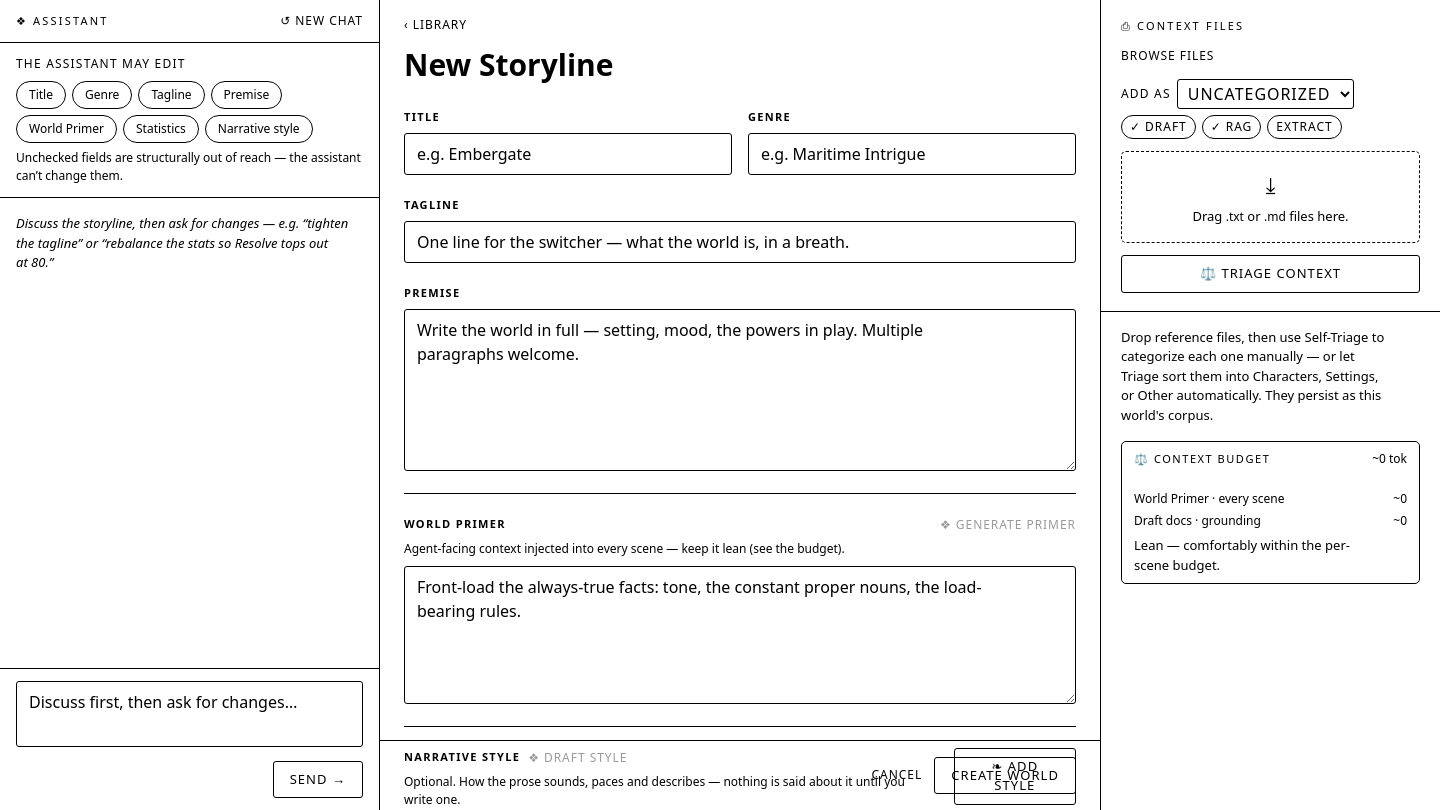
Test case: StorylineCreatorView › drafts via the Assistant and fills the form on approve
Type "draft a title" into the text box named "message the assistant". click: (190, 714)
box: [16,680,363,746]
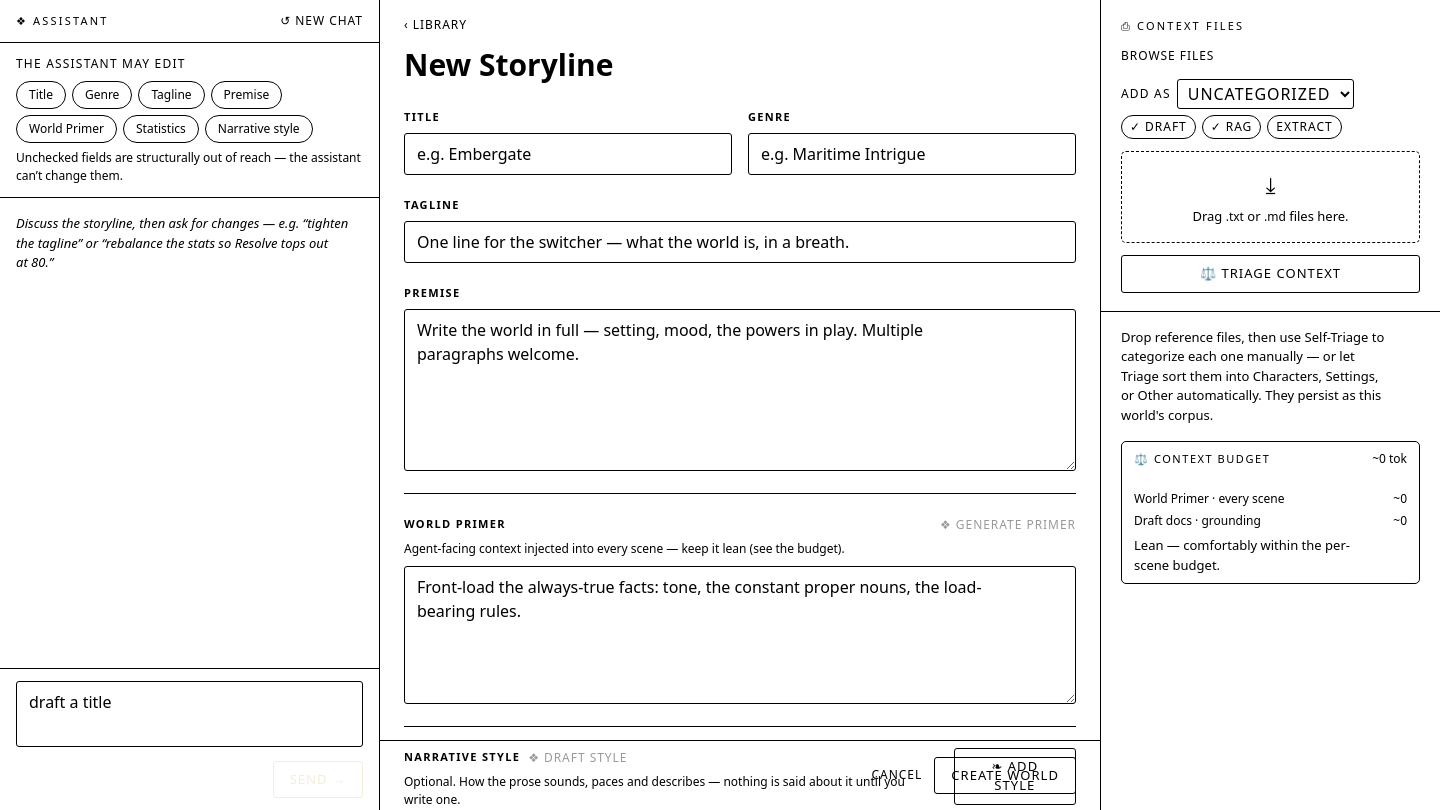
Click the button "Send →". click: click(318, 779)
box: [273,760,363,798]
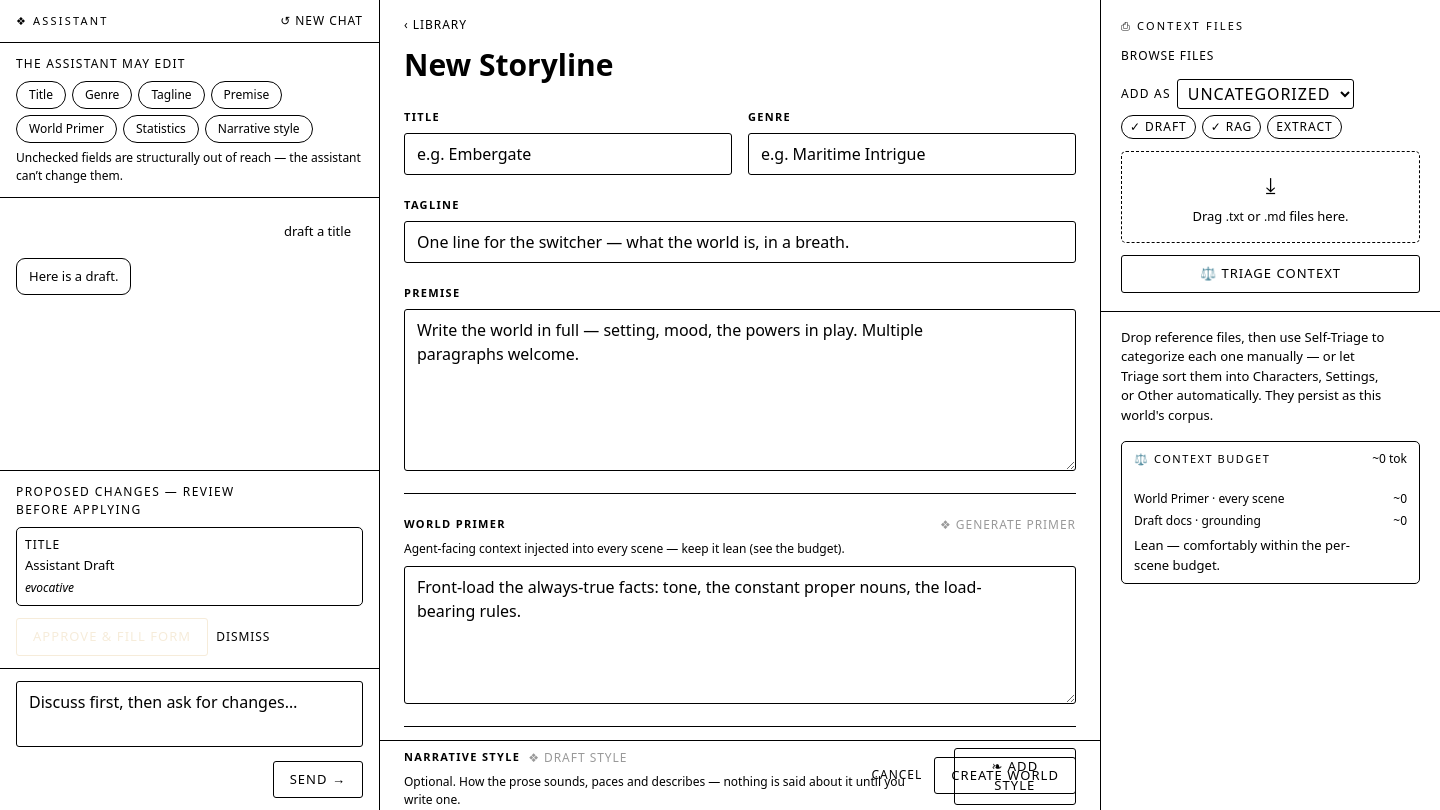
Now the text "Assistant Draft" is shown, box [25,556,114,574]
Click the button "Approve & fill form". click: click(112, 637)
box: [16,618,208,656]
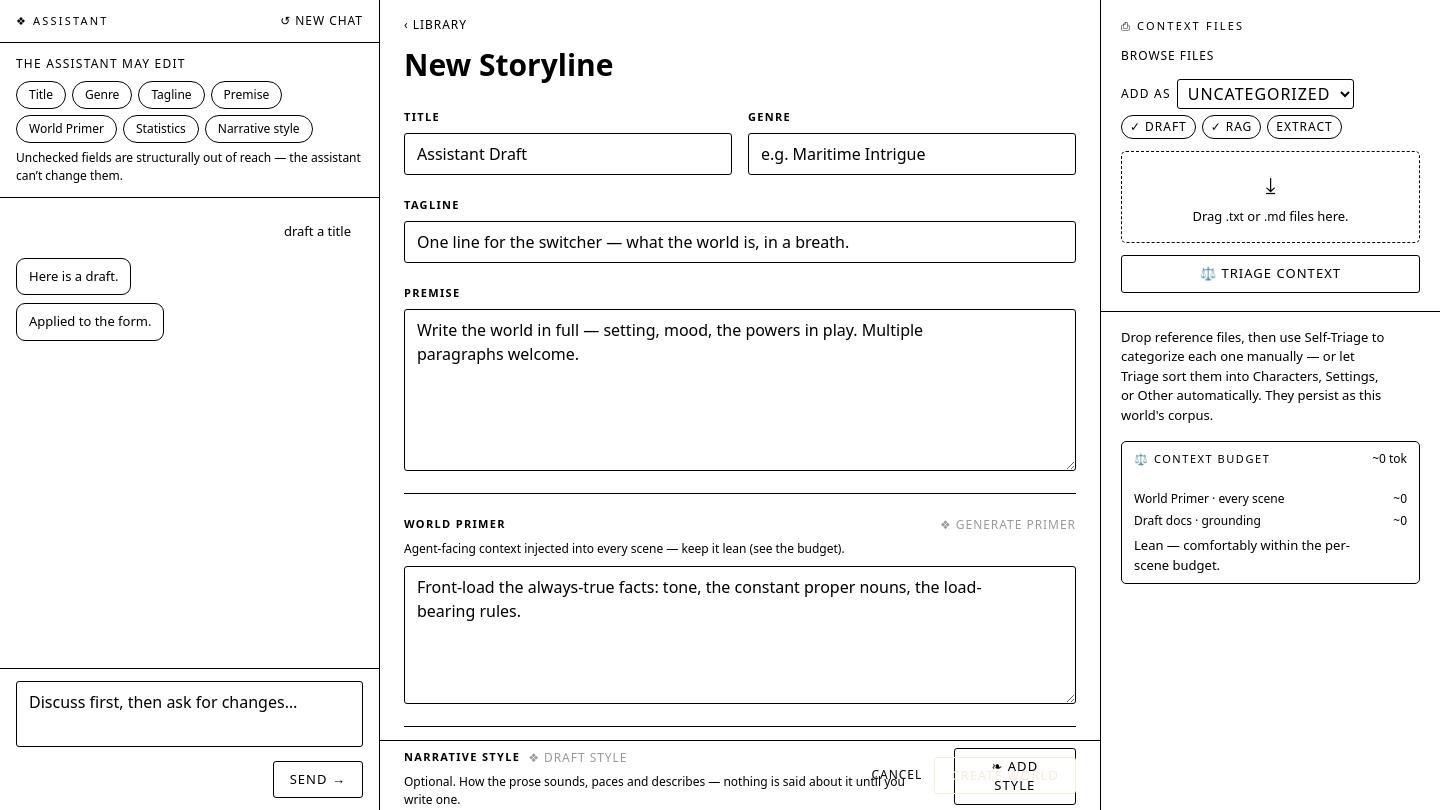
Now the field labelled "Title" holds "Assistant Draft", box [404,133,732,175]
